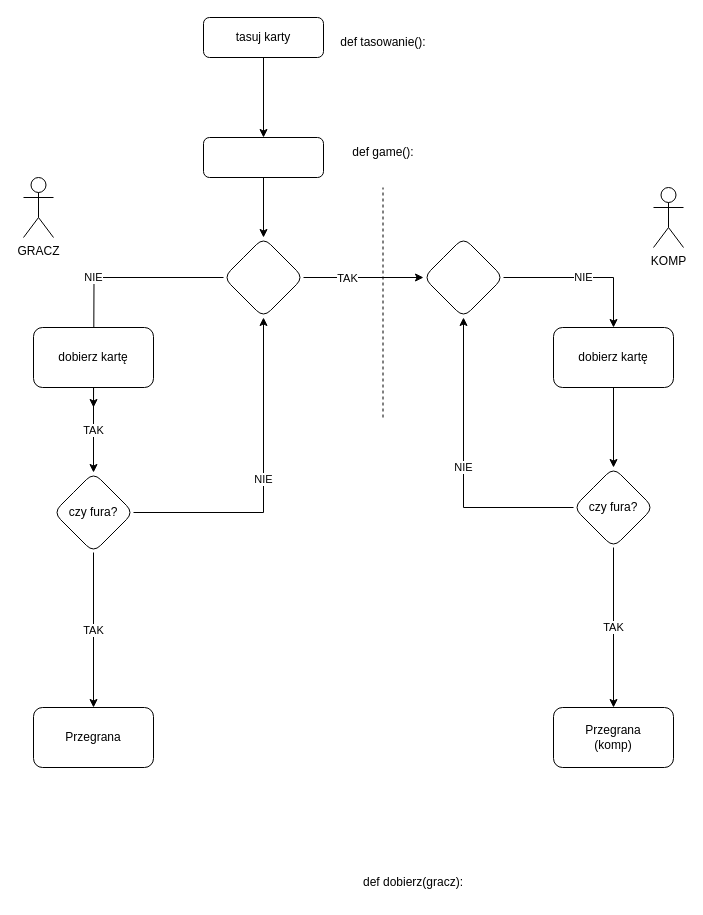
The diagram is 703 pixels wide and 915 high, and some of its shapes have lost their labels. The shapes that lost their labels are listed below. From the top down, each one's box as (x1, y1, x2, y2) in pixels, then its label:
(202, 136, 324, 178): rozdaj pierwsze karty (dwie pary)
(222, 236, 304, 318): starczy? gracz?
(422, 236, 504, 318): starczy? komp
